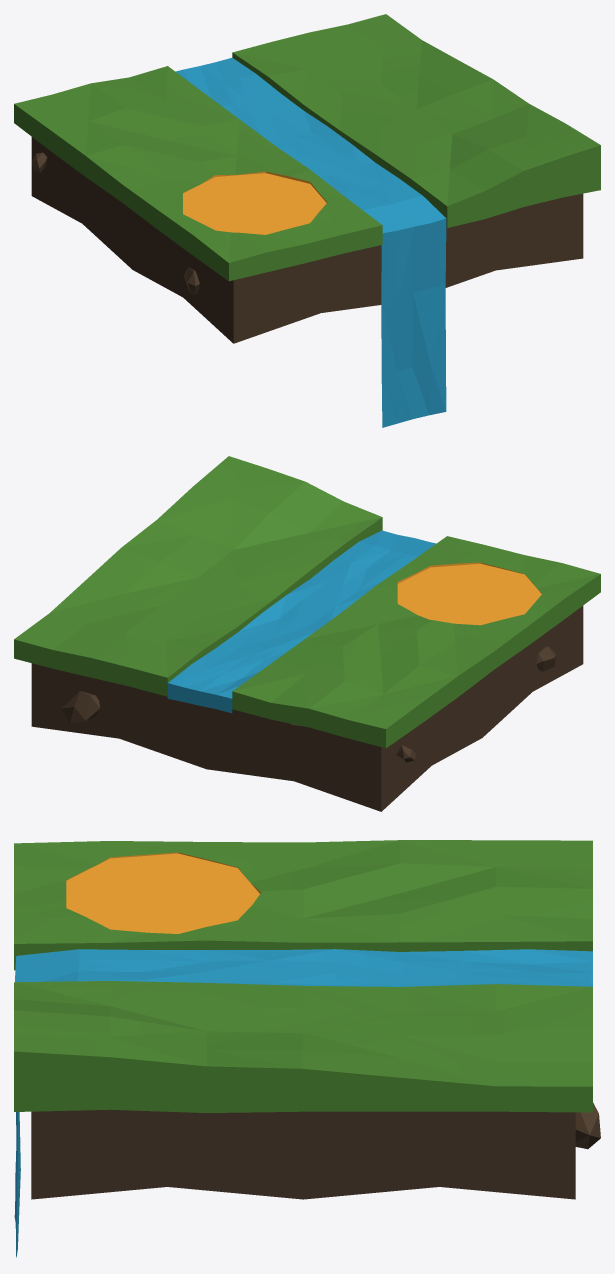
The model's file is terrains_world-forest.fbx.
The picture shows the model from 3 angles, top to bottom: view 1: azimuth 30°, elevation 25°; view 2: azimuth 150°, elevation 25°; view 3: azimuth 270°, elevation 25°; orthographic projection. The views are drawn at different scales.
Visible parts, largest first — view 1: terrains_world_forest; view 2: terrains_world_forest; view 3: terrains_world_forest.
Part boxes in pixels (x1,y1,x2,y2): terrains_world_forest: (14,14,600,427); terrains_world_forest: (14,456,600,811); terrains_world_forest: (14,840,600,1257).
Size of the model in its own units: 199 by 116 by 200.
